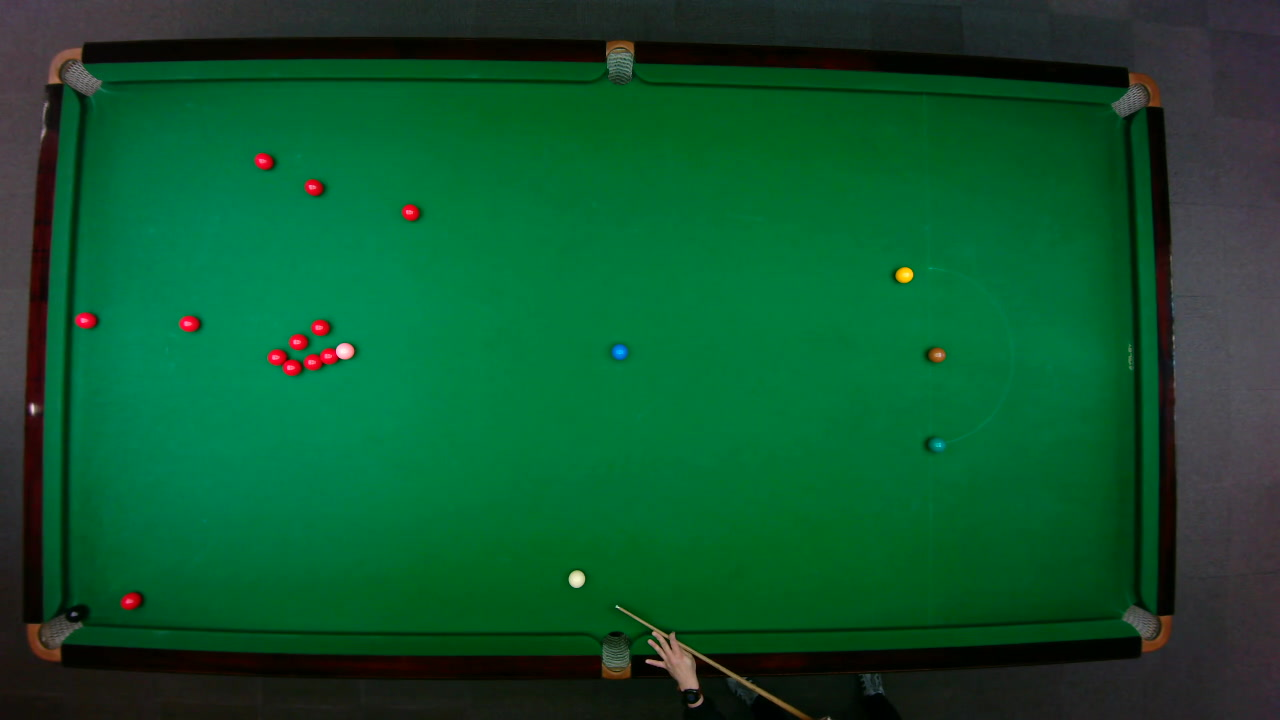bag: (25, 609, 82, 662), (45, 46, 102, 96), (1119, 603, 1171, 652), (1108, 71, 1161, 118), (601, 629, 630, 680), (605, 38, 633, 85)
black: (64, 605, 84, 622)
blue: (610, 342, 628, 360)
brown: (926, 346, 945, 362)
cue: (612, 602, 812, 717)
green: (926, 435, 946, 452)
pink: (334, 341, 355, 360)
red: (118, 590, 142, 610), (73, 310, 97, 329), (302, 177, 324, 196), (177, 314, 200, 332), (253, 151, 274, 170), (265, 347, 287, 365), (400, 202, 420, 221), (287, 332, 308, 350), (302, 352, 323, 370), (281, 358, 302, 376), (309, 318, 330, 335), (319, 346, 337, 365)
white: (566, 568, 586, 588)
yellow: (893, 265, 914, 283)
zone: (926, 265, 1013, 445)
